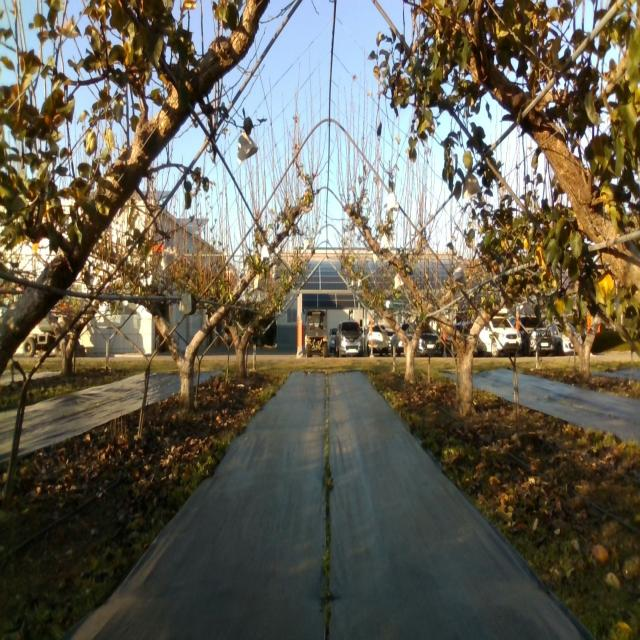pearbags: (237, 129, 259, 166), (461, 174, 481, 198), (161, 247, 178, 271)
